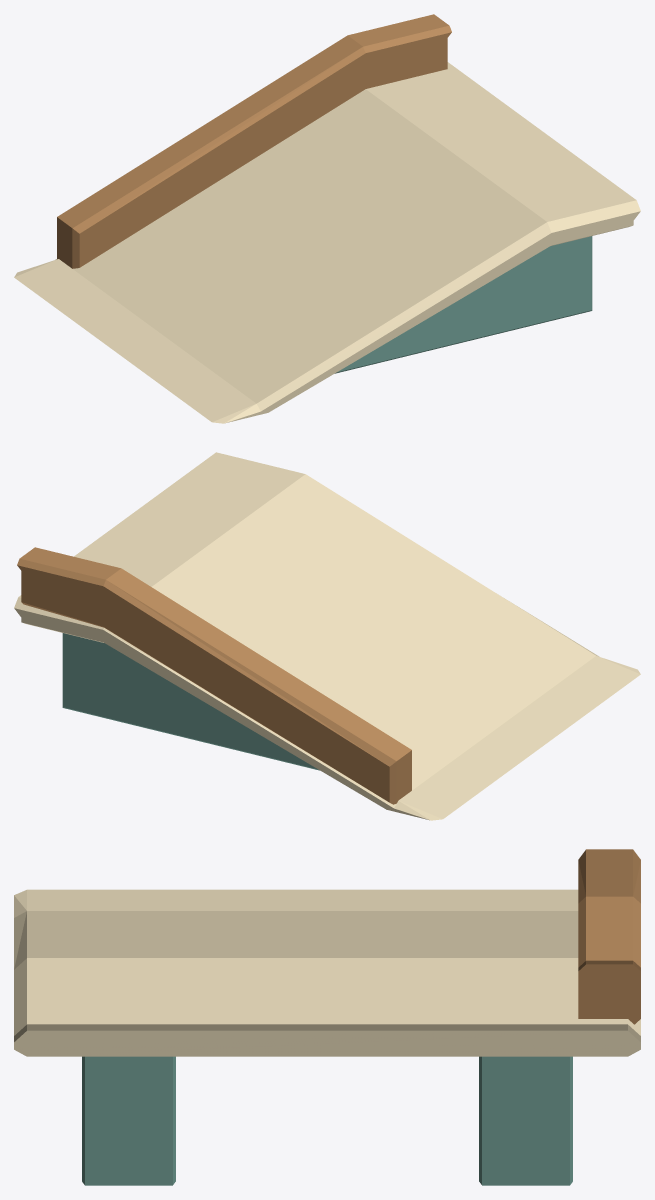
The picture shows the model from 3 angles, top to bottom: view 1: azimuth 30°, elevation 25°; view 2: azimuth 150°, elevation 25°; view 3: azimuth 270°, elevation 25°; orthographic projection. The views are drawn at different scales.
Visible parts, largest first — view 1: Fitted_ramp_deck, Rear_sloping_curb, Grounded_support_Front; view 2: Fitted_ramp_deck, Rear_sloping_curb, Grounded_support_Rear; view 3: Fitted_ramp_deck, Grounded_support_Front, Grounded_support_Rear, Rear_sloping_curb.
Boxes of the visible parts, box(x1,y1,x2,y2) form: Fitted_ramp_deck: box(14, 62, 640, 423); Rear_sloping_curb: box(57, 14, 451, 268); Grounded_support_Front: box(335, 236, 592, 373); Fitted_ramp_deck: box(14, 452, 640, 820); Rear_sloping_curb: box(17, 547, 411, 804); Grounded_support_Rear: box(62, 633, 319, 770); Fitted_ramp_deck: box(14, 889, 640, 1056); Grounded_support_Front: box(82, 1056, 175, 1185); Grounded_support_Rear: box(479, 1056, 572, 1185); Rear_sloping_curb: box(578, 849, 640, 1024).
Bounding box in the file's own units: 1.43 × 0.51 × 1.2.
